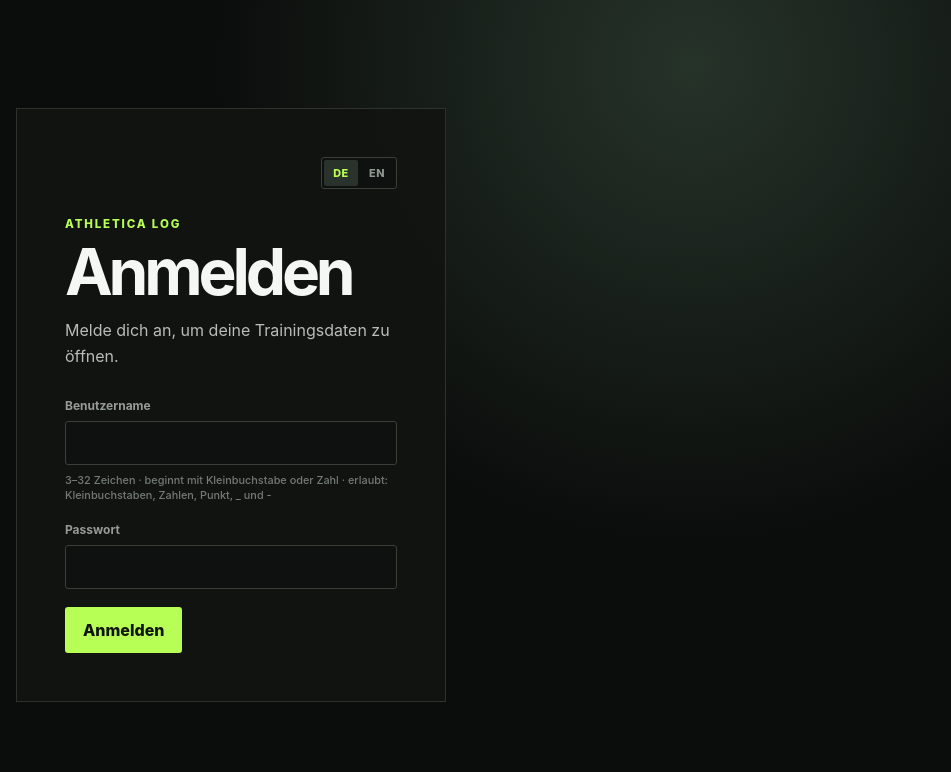
Scenario: Home › explains when repeated sign-in attempts are temporarily throttled
Expected: the heading "Anmelden" is shown, [65,243,397,300]
In the field labelled "Benutzername": (231, 443) [65,421,397,465], type "athletica"
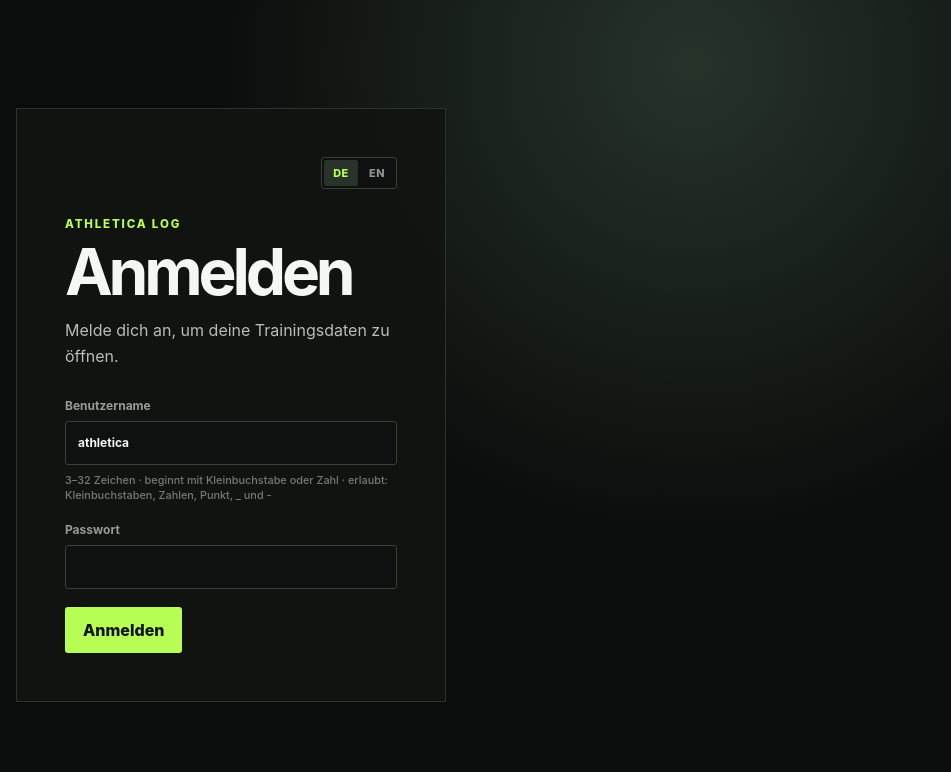
In the password field labelled "Passwort": (231, 567) [65,545,397,589], type "a-strong-password"
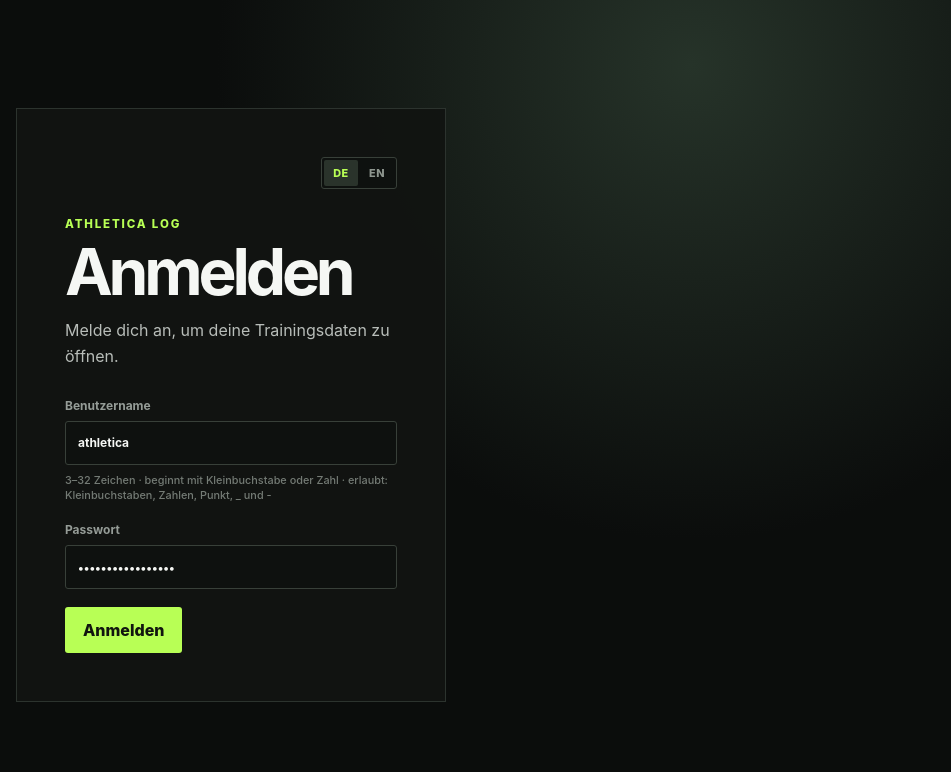
Click the button "Anmelden": (124, 630) [65,607,182,653]
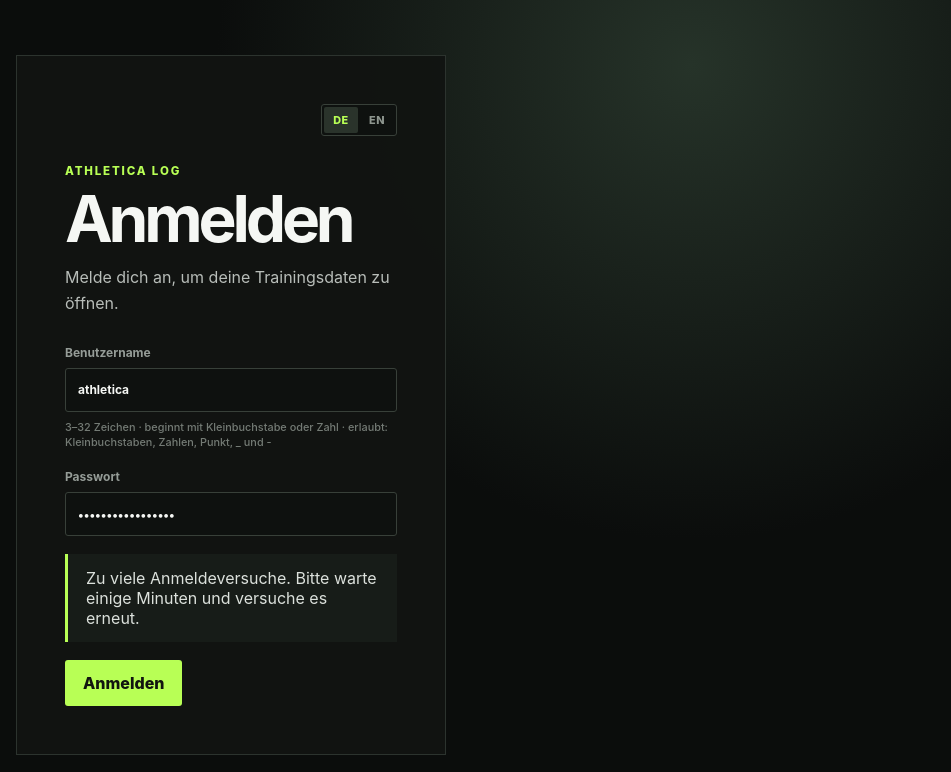
Result: the message reads "Zu viele Anmeldeversuche. Bitte warte einige Minuten und versuche es erneut." at [86,568,377,628]
